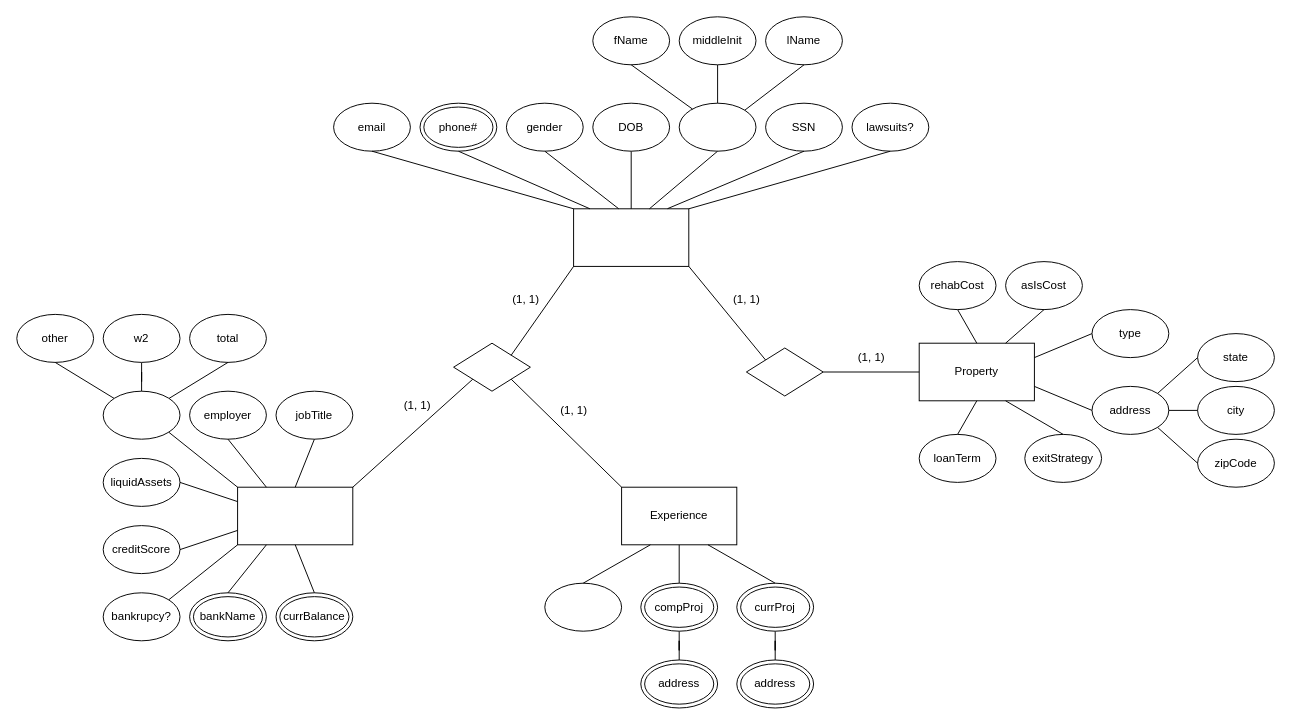
This 1291x725 diagram has some shape labels left out. The centre of each missing label's shape, as x and y in pixels:
Borrower: pixel 631 237
contractor?: pixel 583 606
Finicial_Information: pixel 295 515
hasA: pixel 491 366
income: pixel 141 414
name: pixel 717 126
owns: pixel 784 371
